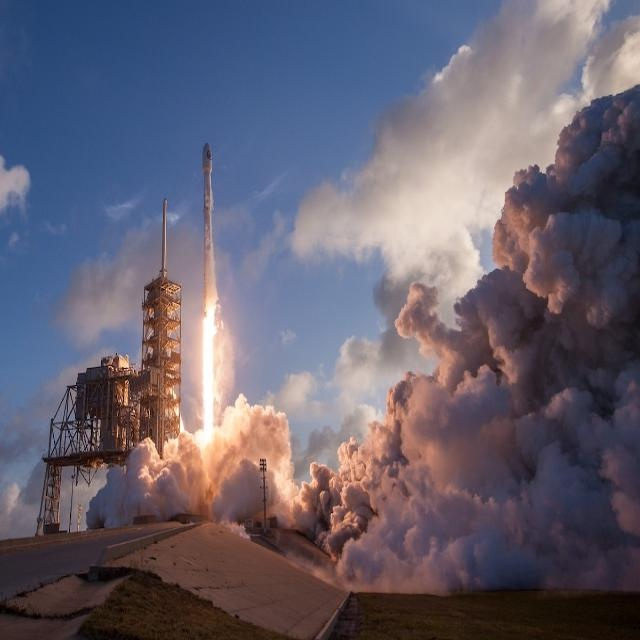large_debris: (291, 0, 621, 288), (0, 150, 51, 233)
medium_debris: (200, 291, 218, 456)
rocket: (192, 127, 223, 287)
